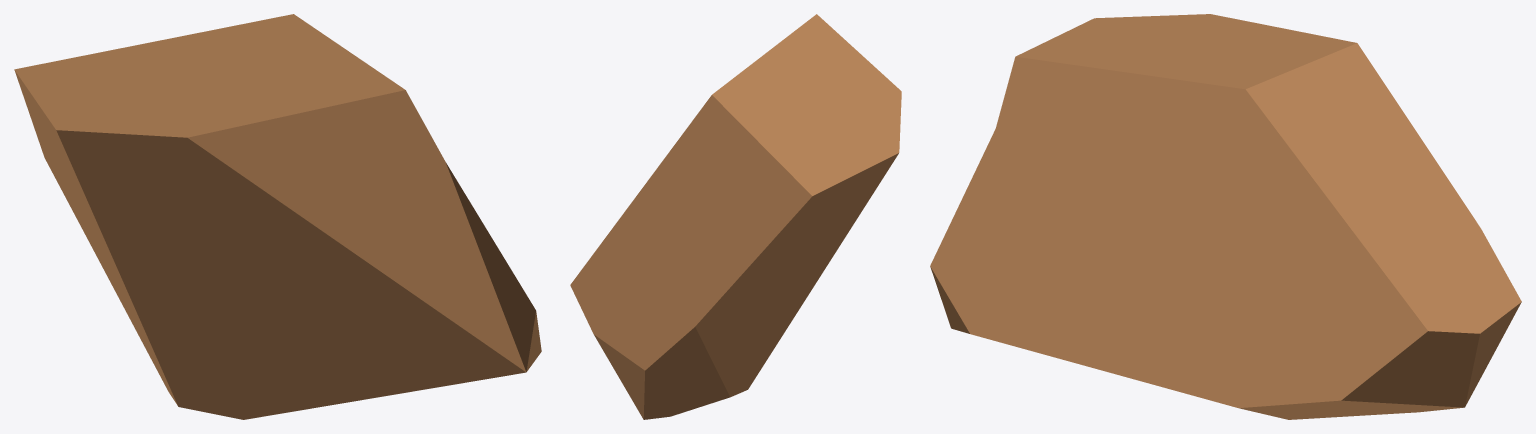
Rendered from asteroid_3.glb.
The picture shows the model from 3 angles, left to right: view 1: azimuth 30°, elevation 25°; view 2: azimuth 150°, elevation 25°; view 3: azimuth 270°, elevation 25°; orthographic projection. The views are drawn at different scales.
Parts seen in each view (by area): view 1: Asteriod_cell_3; view 2: Asteriod_cell_3; view 3: Asteriod_cell_3.
Boxes of the visible parts, x1=… form: Asteriod_cell_3: x1=14, y1=14, x2=541, y2=419; Asteriod_cell_3: x1=570, y1=14, x2=901, y2=419; Asteriod_cell_3: x1=930, y1=14, x2=1521, y2=419.
Size of the model in its own units: 1.13 by 1.18 by 1.74.
